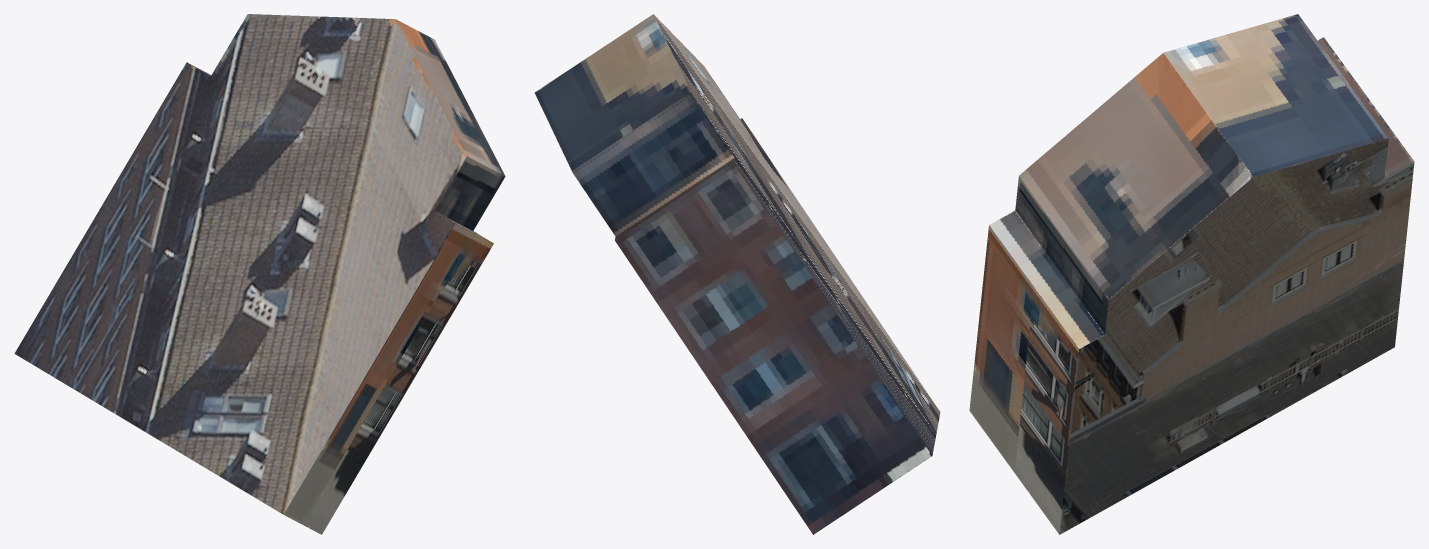
The picture shows the model from 3 angles, left to right: view 1: azimuth 30°, elevation 25°; view 2: azimuth 150°, elevation 25°; view 3: azimuth 270°, elevation 25°; orthographic projection. The views are drawn at different scales.
Visible parts, largest first — view 1: BAG_0599100000650059 (×2); view 2: BAG_0599100000650059 (×2); view 3: BAG_0599100000650059 (×3).
Part boxes in pixels (bbox=[...]): BAG_0599100000650059 (×2): bbox=[14, 14, 505, 534]; BAG_0599100000650059 (×2): bbox=[534, 14, 940, 534]; BAG_0599100000650059 (×3): bbox=[969, 14, 1414, 534].
Bounding box in the file's own units: 17.45 × 18.52 × 13.55.
Materials: 1 (1 with a texture image).
